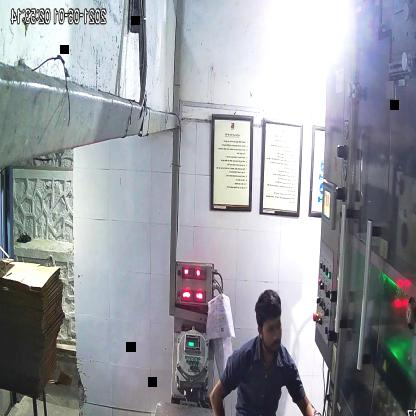no_goggles: (258, 314, 284, 338)
